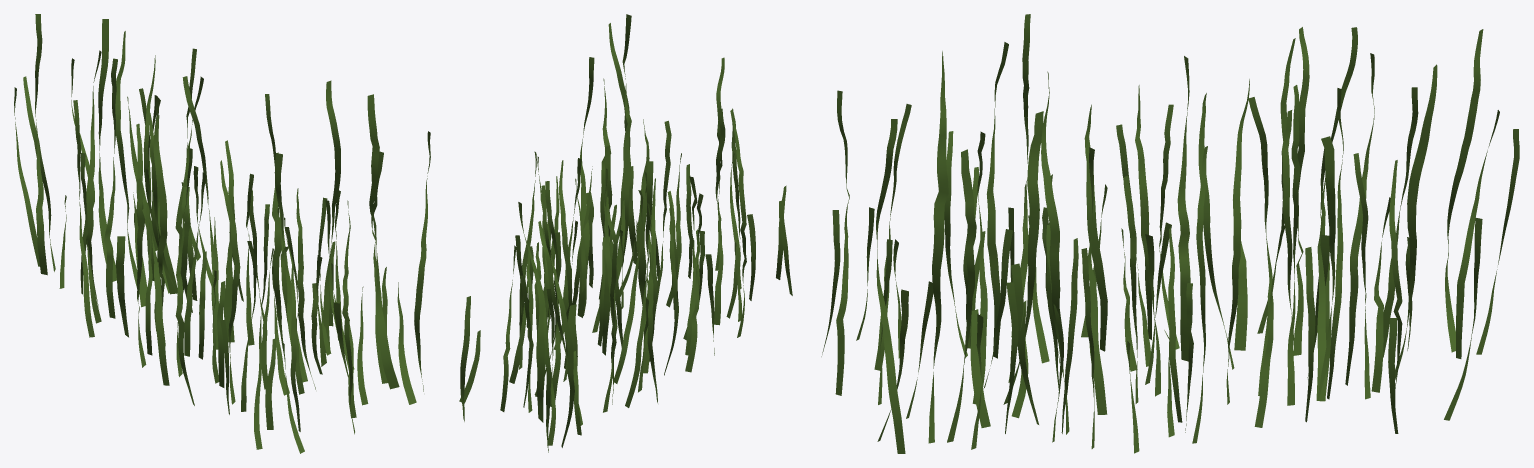
The model's file is plant_swamp_kelp_long_C_light.fbx.
3 views of the same model, side by side, from view 1: azimuth 30°, elevation 25°; view 2: azimuth 150°, elevation 25°; view 3: azimuth 270°, elevation 25° (orthographic). The views are drawn at different scales.
Parts seen in each view (by area): view 1: plant_swamp_kelp_long_C_light; view 2: plant_swamp_kelp_long_C_light; view 3: plant_swamp_kelp_long_C_light.
Boxes of the visible parts, box(x1,y1,x2,y2) form: plant_swamp_kelp_long_C_light: box(14, 14, 430, 453); plant_swamp_kelp_long_C_light: box(459, 14, 792, 452); plant_swamp_kelp_long_C_light: box(821, 14, 1519, 453).
Size of the model in its own units: 277 by 389 by 648.
